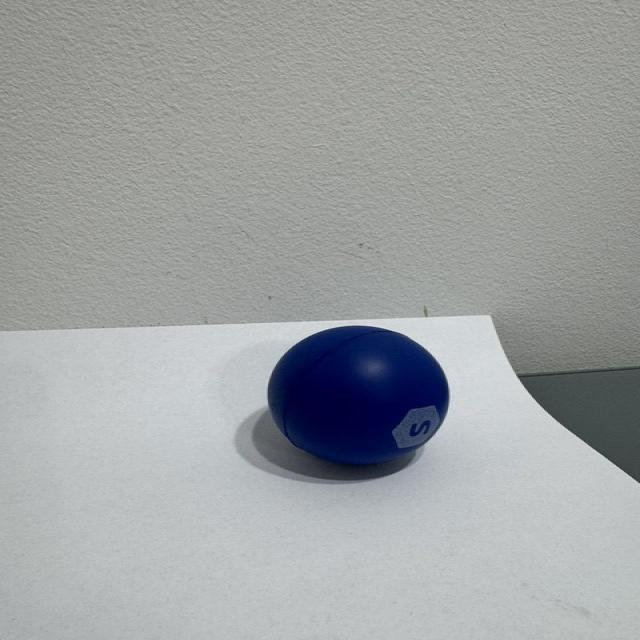blue_ball: (262, 323, 486, 492)
